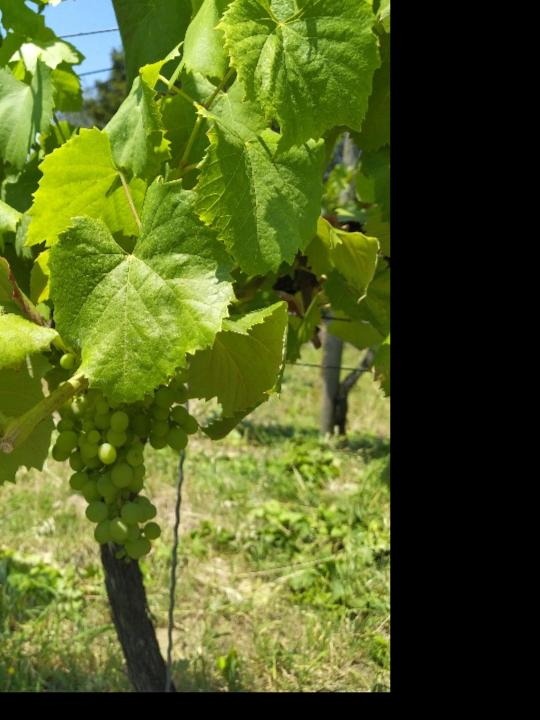grape: (50, 348, 203, 571)
